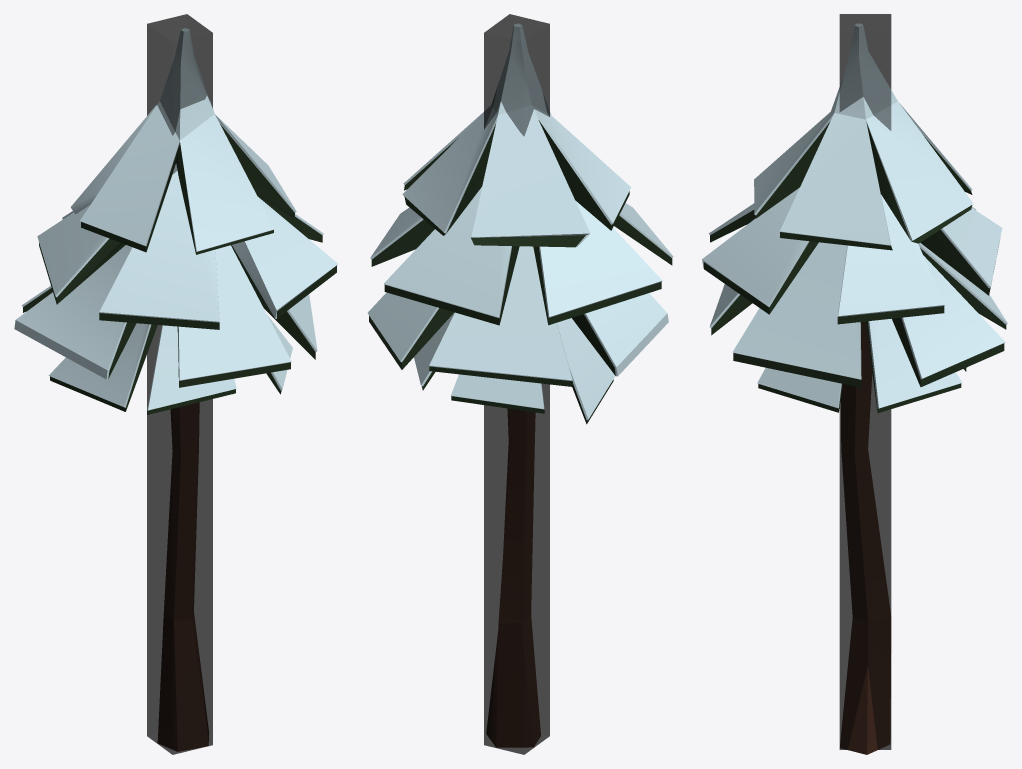
File: PineTree_Snow.fbx
3 views of the same model, side by side, from view 1: azimuth 30°, elevation 25°; view 2: azimuth 150°, elevation 25°; view 3: azimuth 270°, elevation 25° (orthographic).
Visible parts, largest first — view 1: Pine_Tree_Snow, Pine_Tree_Snow_BBox; view 2: Pine_Tree_Snow, Pine_Tree_Snow_BBox; view 3: Pine_Tree_Snow, Pine_Tree_Snow_BBox.
Boxes of the visible parts, x1,y1,x2,y2 form: Pine_Tree_Snow: (14,28,337,751); Pine_Tree_Snow_BBox: (147,14,212,754); Pine_Tree_Snow: (367,23,673,747); Pine_Tree_Snow_BBox: (484,14,549,754); Pine_Tree_Snow: (702,23,1007,754); Pine_Tree_Snow_BBox: (839,14,891,749).
Bounding box in the file's own units: 15.26 × 39.12 × 15.14.
2 materials, 1 textured.
